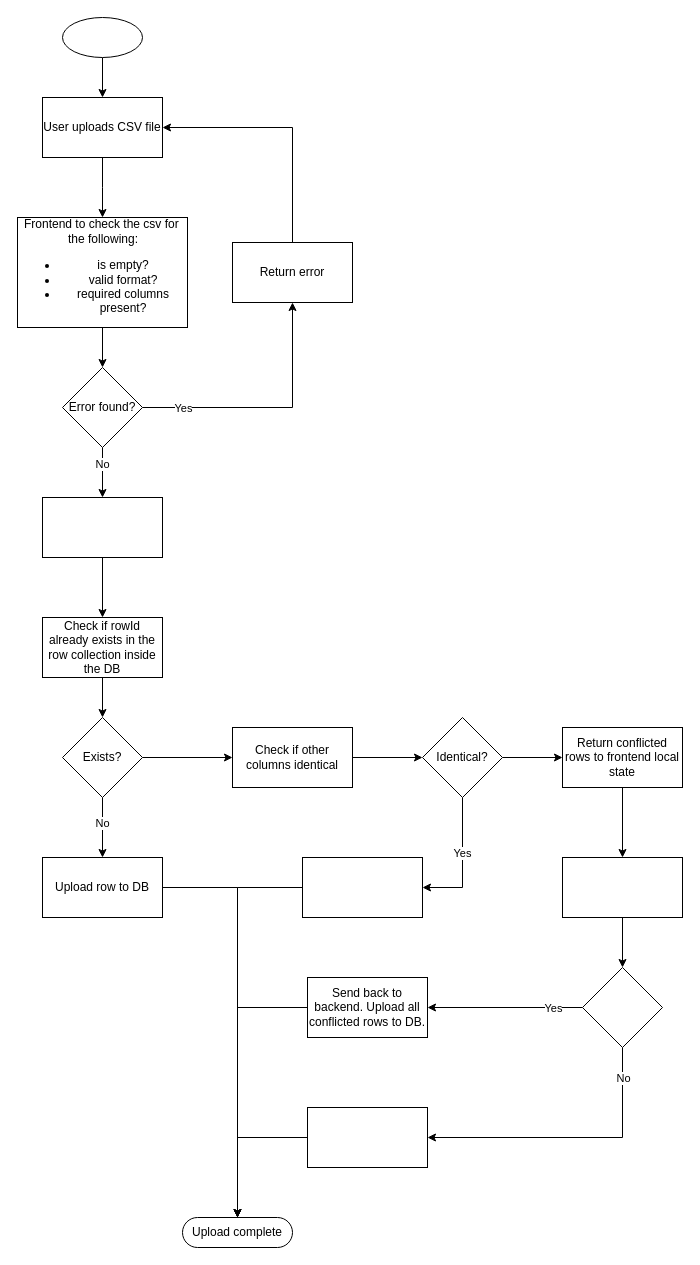
Some shapes in this 700 by 1265 pixel diagram are drawn without their labels. Each missing label, with the centre of its shape:
"Frontend removes conflicts in local state" goes at (367,1137).
"Keep?" goes at (622,1007).
"No conflict resolution required" goes at (362,887).
"Prompt a conflictDialog to user." goes at (622,887).
"Send to backend to parse the CSV file." goes at (102,527).
"Start" goes at (102,37).
